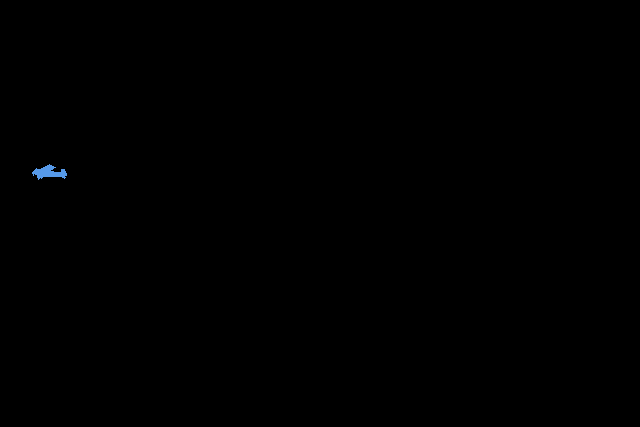Airplane: (32, 164, 66, 179)
